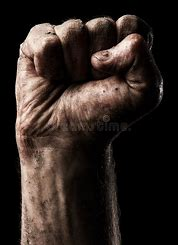closed: (14, 13, 164, 142)
